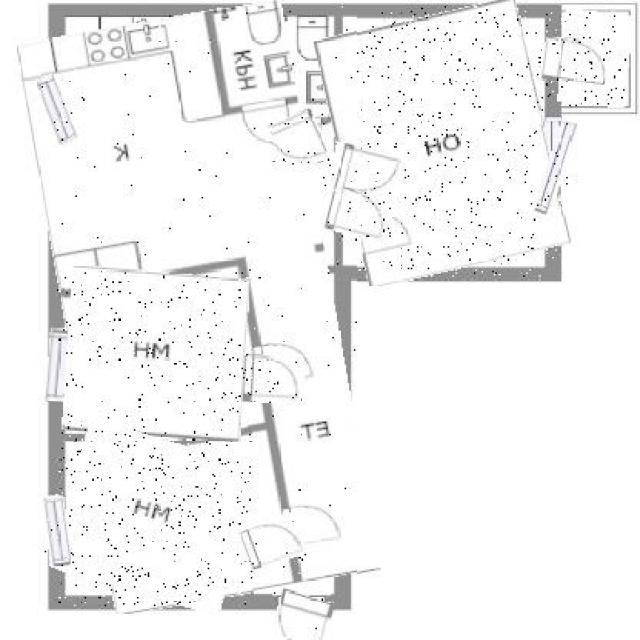door: (322, 148, 402, 240), (272, 112, 328, 171), (543, 39, 611, 86), (242, 517, 304, 568), (243, 357, 305, 403), (272, 592, 331, 640)
window: (542, 120, 572, 215), (42, 77, 72, 145), (43, 497, 69, 566), (46, 329, 66, 402)
zone: (40, 9, 357, 606), (328, 6, 558, 277), (59, 431, 252, 606), (64, 271, 248, 440), (560, 11, 629, 106)
